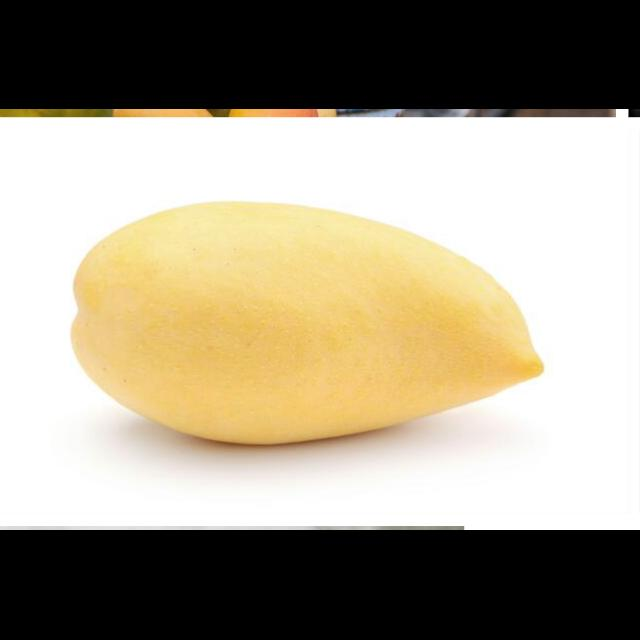mango: (72, 200, 543, 447)
